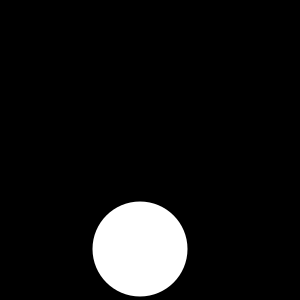rectangle: (92, 202, 188, 296)
